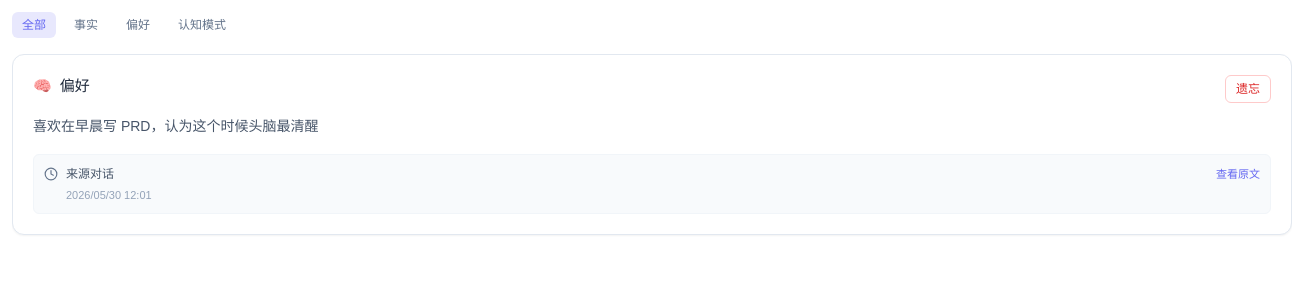
it: MemoryTab › 来源缺失时显示不可用空态且不崩溃
Click the button "来源对话 查看原文 2026/05/30 12:01" at (90, 174), box x1=33 y1=154 x2=1271 y2=214
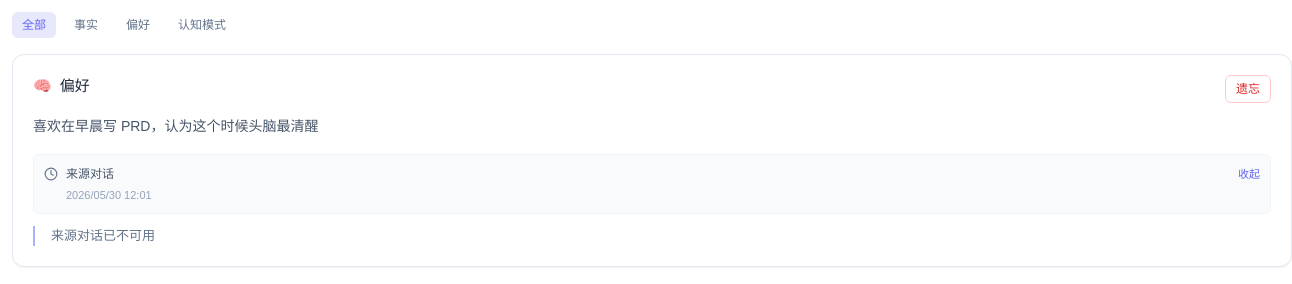
Expected: the text "来源对话已不可用" is shown, x1=51 y1=228 x2=155 y2=243
